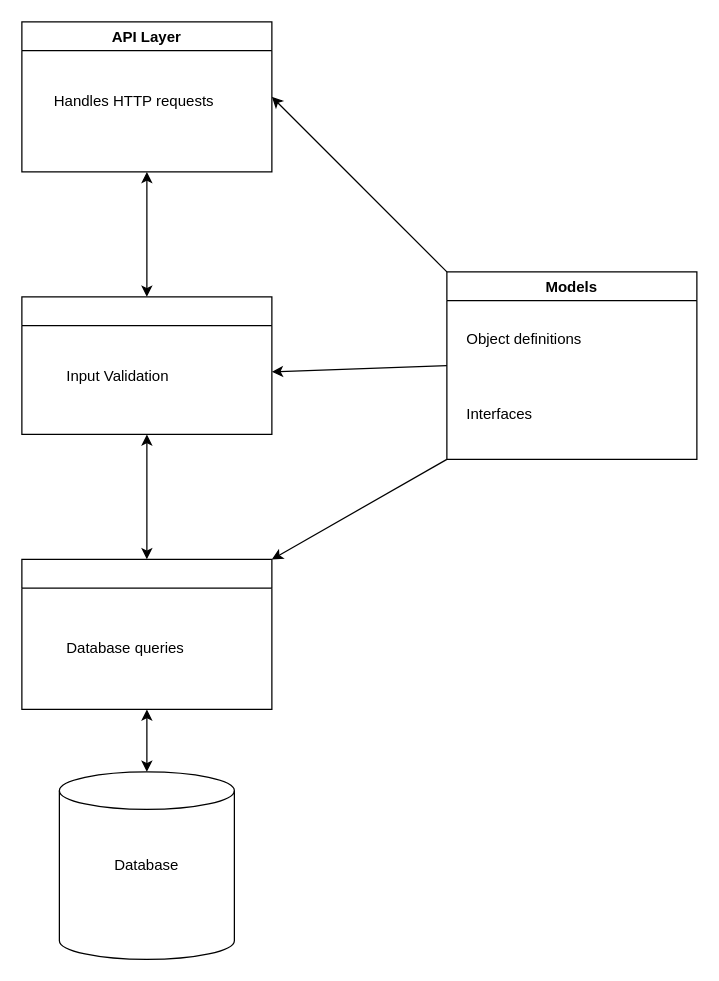
Some shapes in this 719 by 981 pixel diagram are drawn without their labels. The box of each missing label's shape, as (x1, y1, x2, y2) in pixels:
Business Layer: (21, 296, 272, 434)
Repository Layer: (21, 558, 272, 709)
